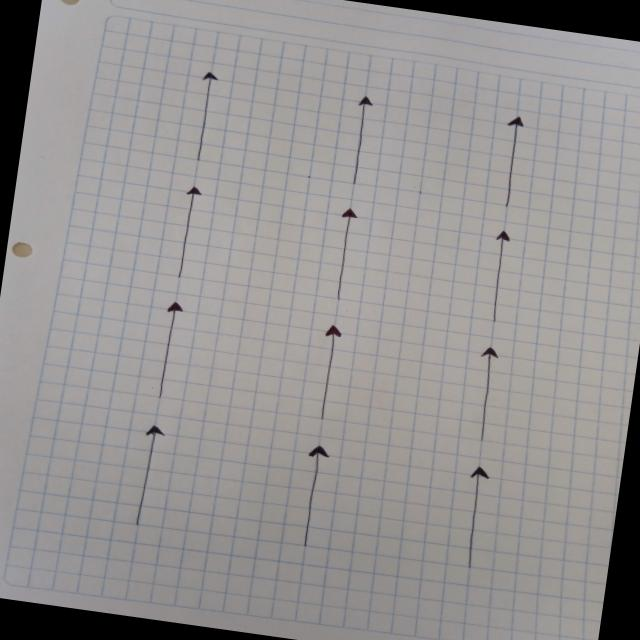arrow_line_up: (276, 443, 354, 565), (450, 462, 506, 580), (463, 348, 522, 456), (172, 67, 232, 168), (475, 232, 524, 338), (486, 115, 534, 222), (162, 182, 209, 290), (306, 318, 355, 418), (324, 204, 368, 308), (154, 296, 194, 404), (342, 92, 384, 190), (128, 422, 164, 512)
